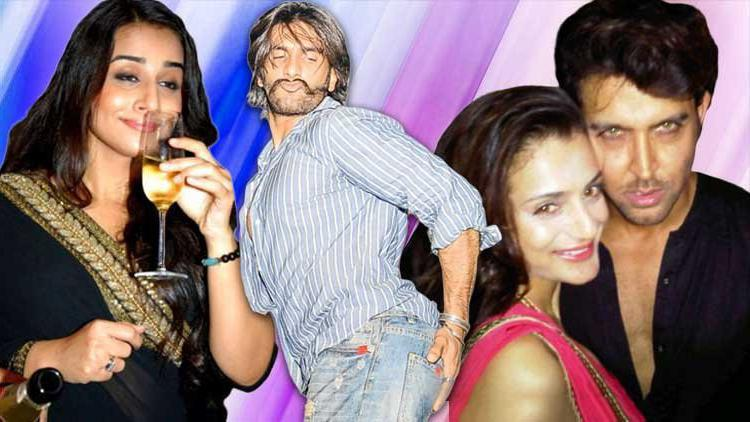Drunk: (596, 77, 700, 219), (524, 155, 605, 281), (104, 24, 182, 150), (258, 22, 333, 114)
